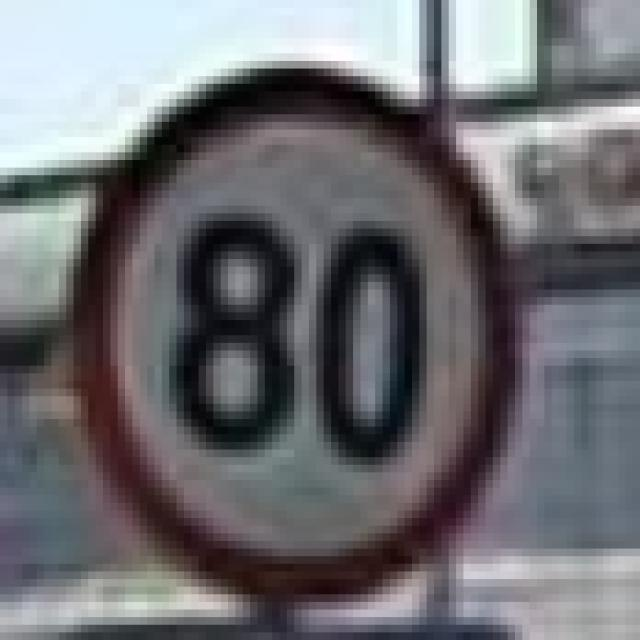Speed Limit -80-: (162, 214, 442, 463)
